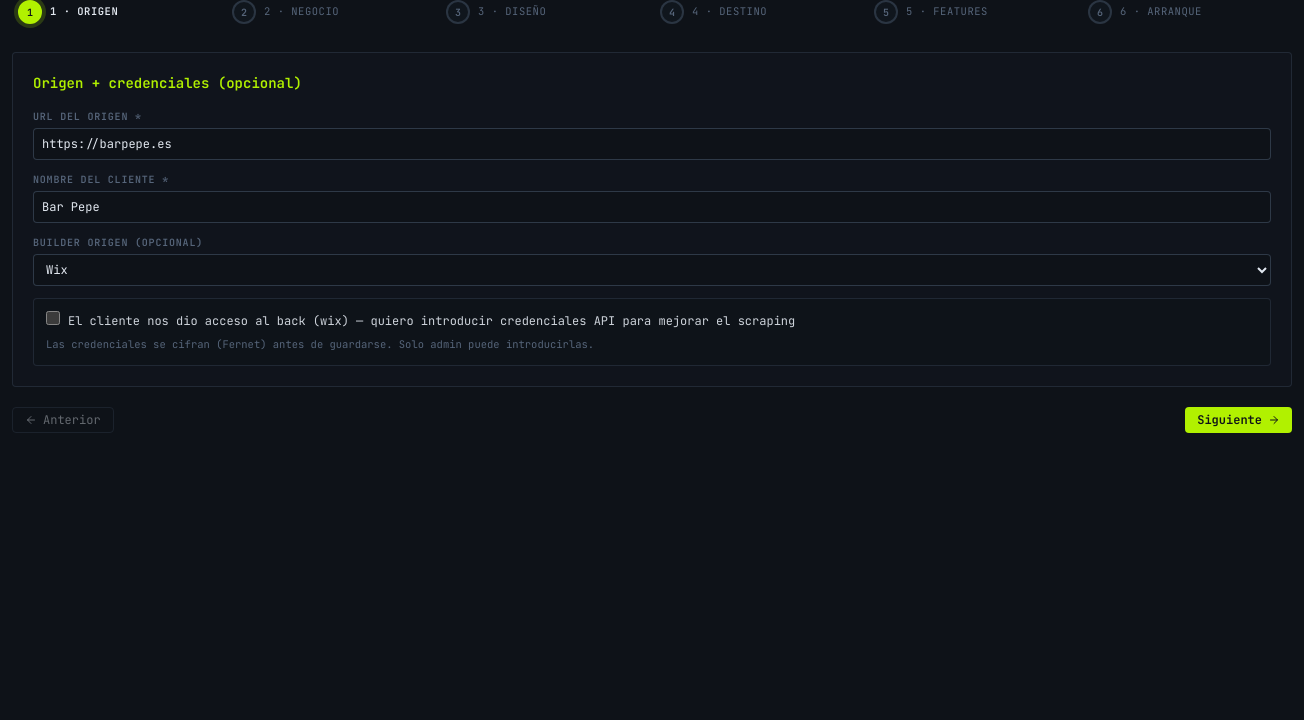
Test: NewProjectWizard › paso 1 → paso 2 (negocio): navega si campos válidos
Step 1. Click the button "Siguiente" → (1239, 420), box [1185,407,1292,433]
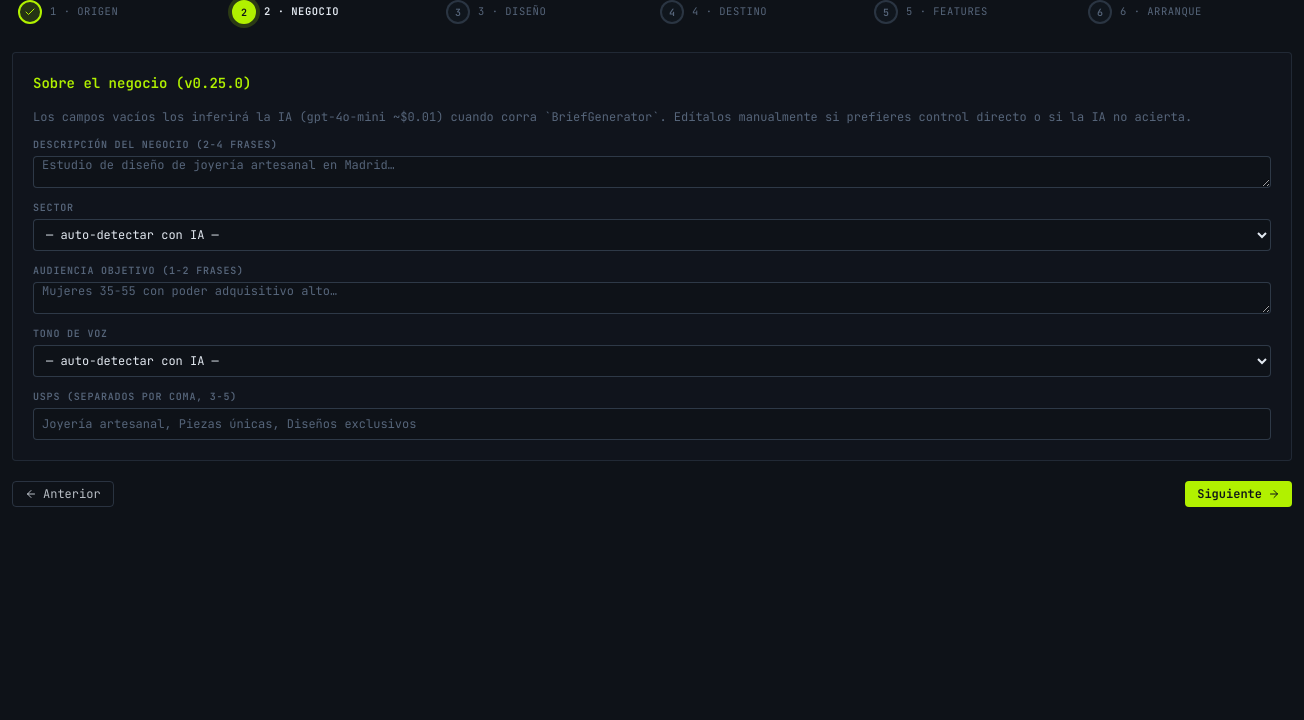
Now the text box labelled "Descripción del negocio (2-4 frases)" is shown, box [33,156,1271,188]
